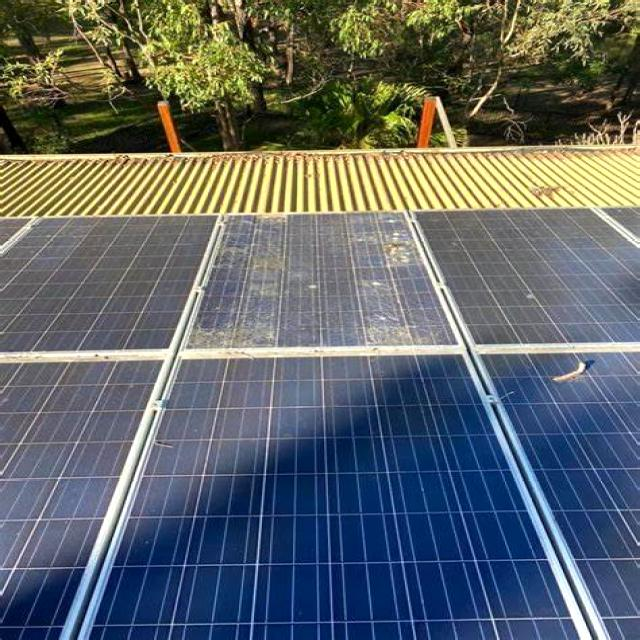bird: (193, 304, 290, 352), (344, 300, 432, 352), (201, 262, 300, 302), (221, 207, 311, 247), (380, 215, 424, 278)
